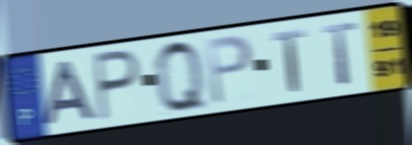A: (41, 57, 100, 128)
P: (203, 32, 256, 108), (92, 47, 143, 124)
Q: (151, 37, 212, 116)
T: (320, 20, 360, 87), (270, 27, 308, 95)
